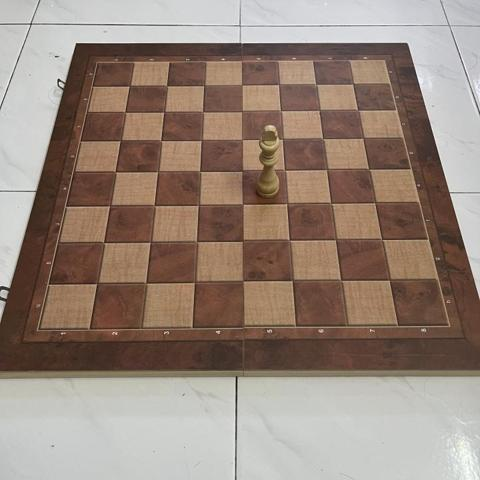xcorner: (343, 76, 360, 93), (306, 76, 323, 93), (269, 77, 286, 94), (232, 77, 249, 94), (195, 78, 212, 95), (158, 78, 175, 95), (121, 79, 138, 96), (348, 102, 365, 119), (309, 102, 326, 119), (271, 103, 288, 120), (232, 103, 249, 120), (194, 104, 211, 121), (155, 104, 172, 121), (117, 105, 134, 122), (353, 130, 370, 147), (313, 130, 330, 147), (273, 131, 290, 148), (232, 131, 249, 148), (192, 132, 209, 149), (152, 132, 169, 149), (112, 133, 129, 150), (359, 160, 376, 177), (317, 161, 334, 178), (275, 161, 292, 178), (233, 162, 250, 179), (191, 162, 208, 179), (149, 163, 166, 180), (107, 163, 124, 180), (365, 194, 382, 211), (321, 194, 338, 211), (277, 195, 294, 212), (233, 195, 250, 212), (189, 196, 206, 213), (145, 196, 162, 213), (101, 197, 118, 214), (372, 230, 389, 247), (325, 231, 342, 248), (279, 231, 296, 248), (233, 232, 250, 249), (187, 232, 204, 249), (141, 233, 158, 250), (95, 233, 112, 250), (379, 270, 396, 287), (330, 271, 347, 288), (282, 272, 299, 289), (234, 272, 251, 289), (185, 273, 202, 290), (137, 273, 154, 290), (89, 274, 106, 291)
